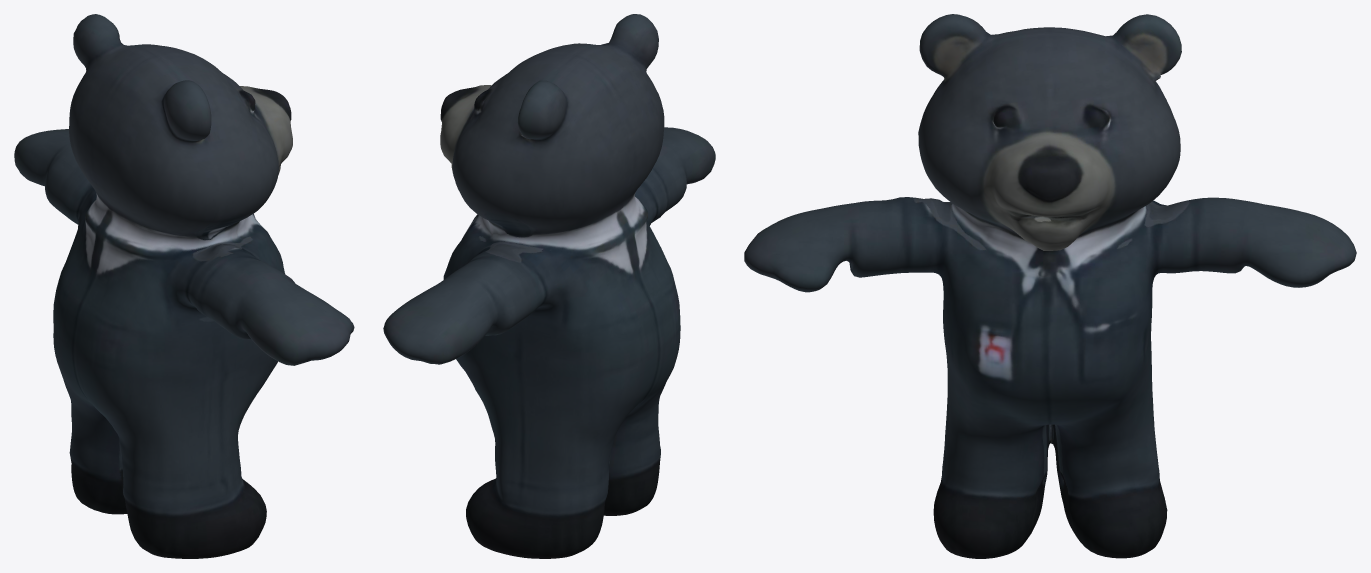
Rendered from grey_bear_in_a_work_preview_1.glb.
3 renders of one model, left to right at view 1: azimuth 30°, elevation 25°; view 2: azimuth 150°, elevation 25°; view 3: azimuth 270°, elevation 25°, orthographic. The views are drawn at different scales.
Visible parts, largest first — view 1: mesh; view 2: mesh; view 3: mesh.
Part boxes in pixels (bbox=[...]): mesh: bbox=[14, 14, 354, 558]; mesh: bbox=[383, 14, 715, 558]; mesh: bbox=[744, 14, 1356, 558].
Size of the model in its own units: 0.4277 by 0.9136 by 0.9989.
Materials: 1 (1 with a texture image).
